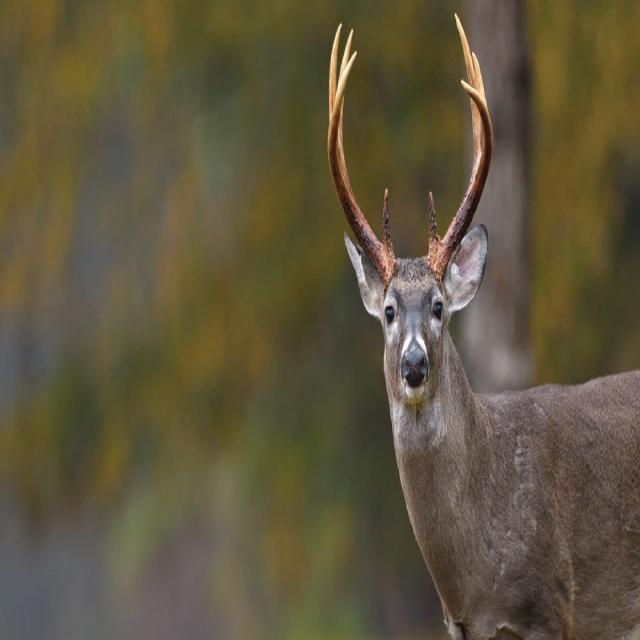Deer: (327, 18, 640, 640)
